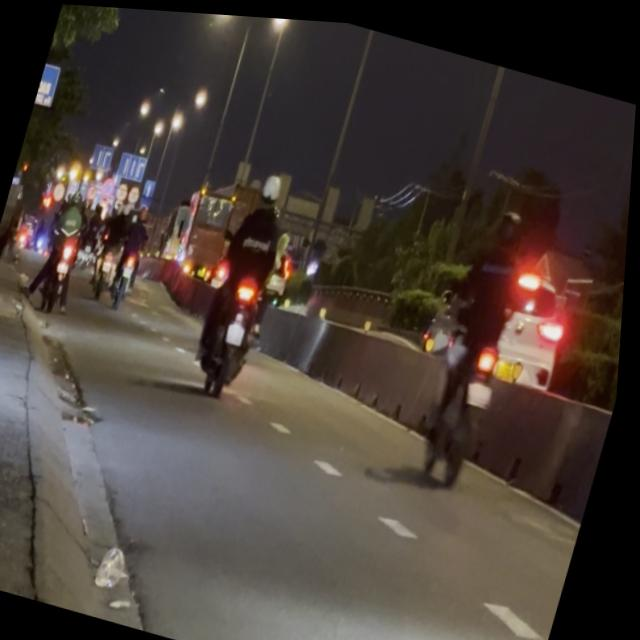helmet: (495, 201, 527, 244)
licenseplate: (403, 186, 553, 498)
nohelmet: (468, 371, 499, 401)
